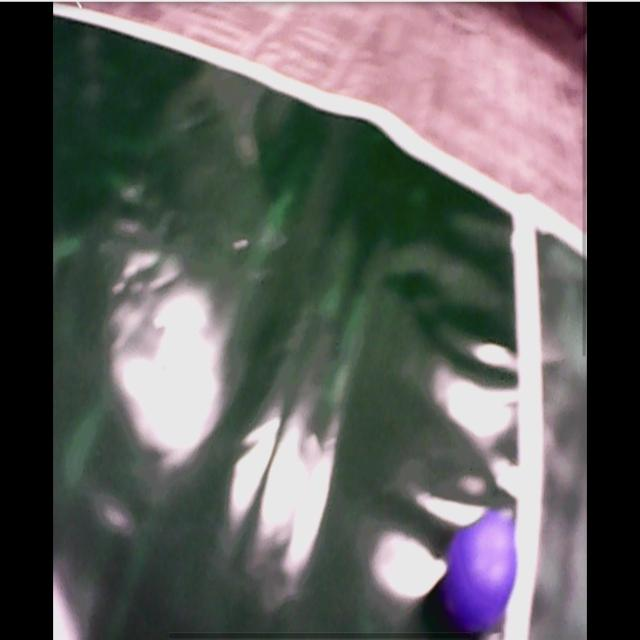ball: (443, 514, 519, 631)
